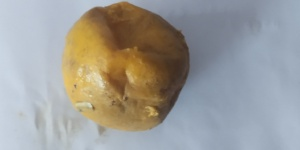BAD: (64, 2, 187, 132)
